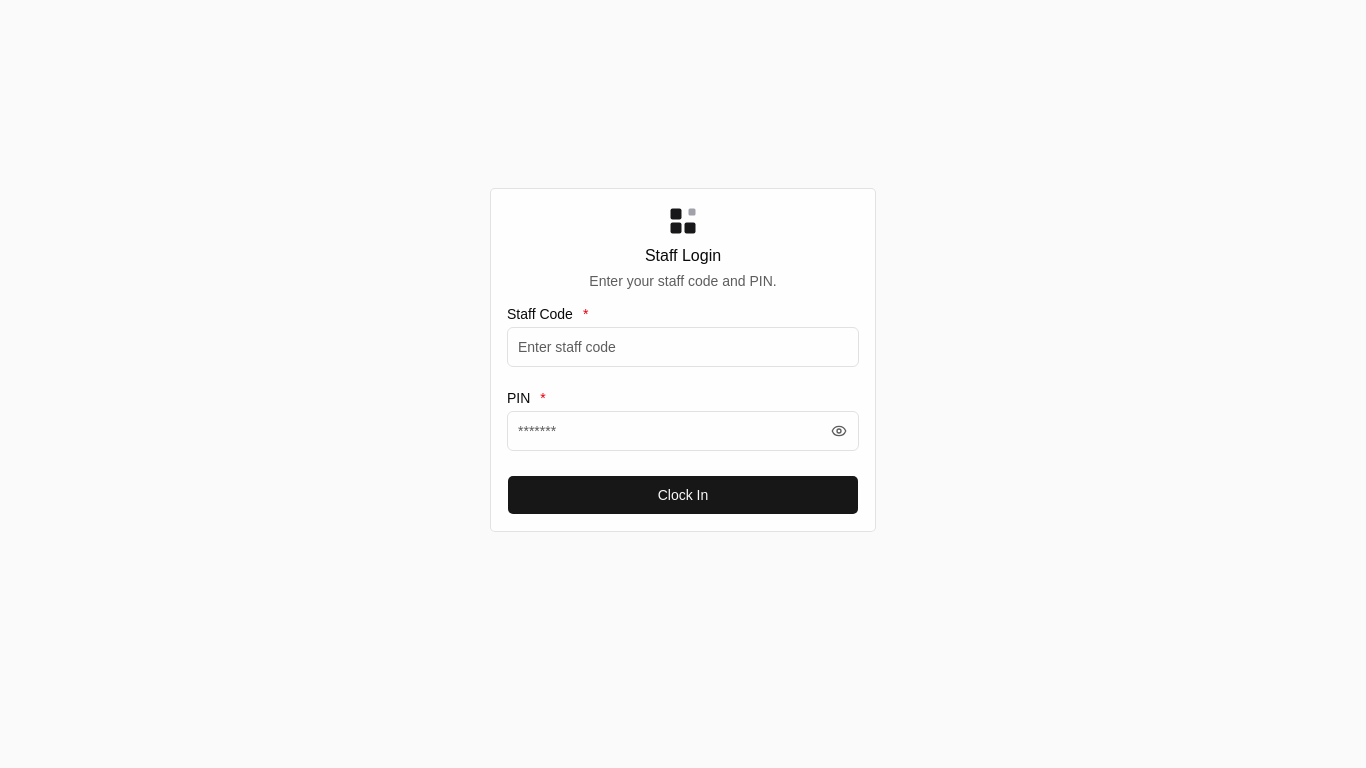
Test: Forced PIN change on login › validates change PIN form rules (different pins, matching confirm)
Type "STAFF02" into the field with placeholder "Enter staff code" at (683, 347), box [508,327,858,367]
Type "123456" into the password field labelled "PIN" at (665, 431), box [508,411,823,451]
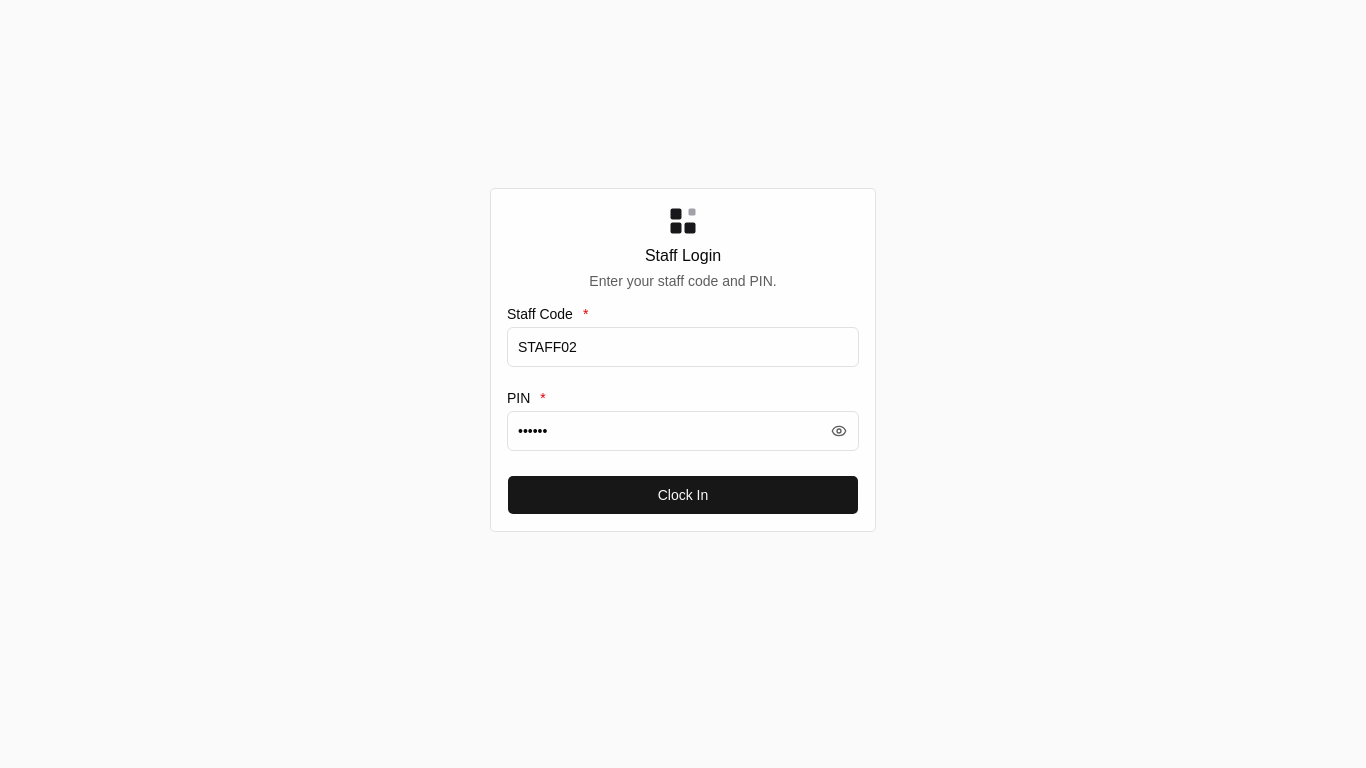
Click the button "Clock In" at (683, 495), box [507,475,859,515]
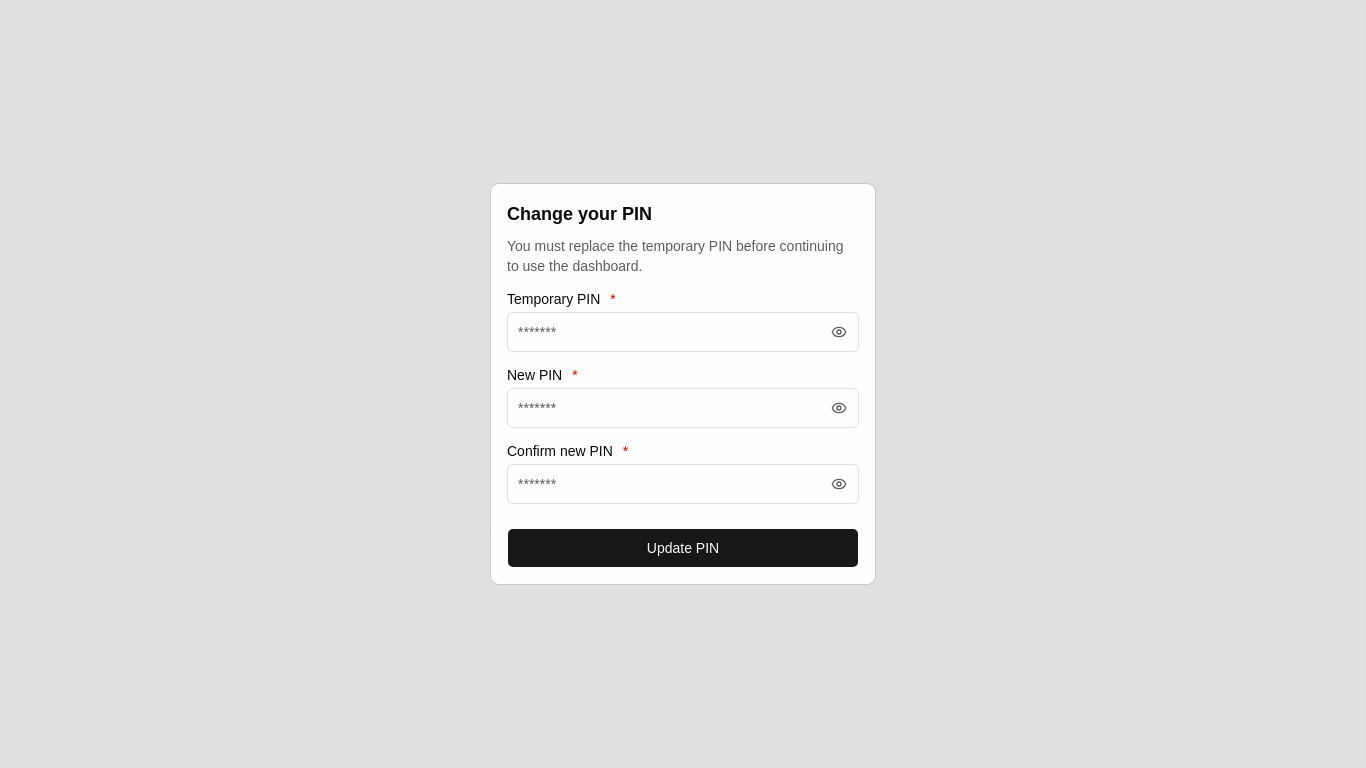
Now the dialog is shown, box [491,184,875,584]
Type "123456" into the password field labelled "Temporary PIN" at (665, 332), box [508,312,823,352]
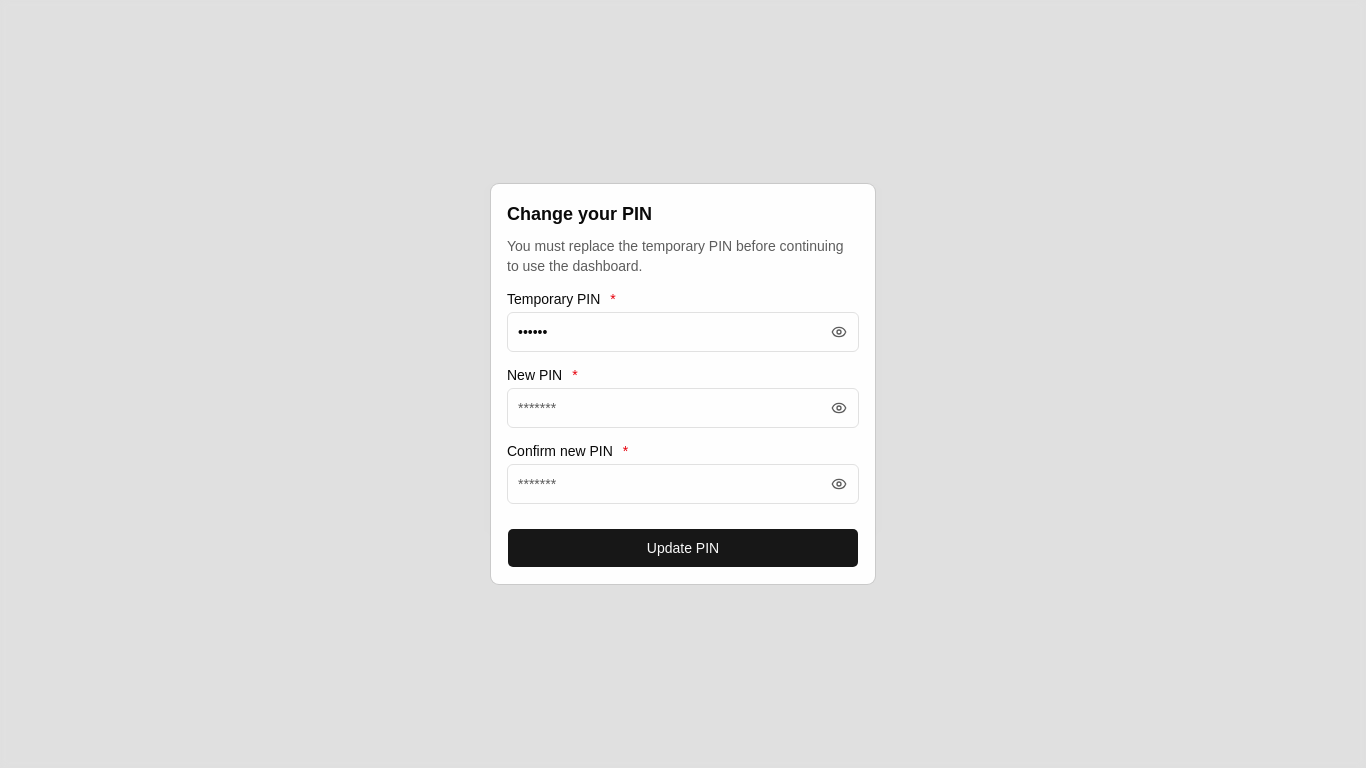
Type "123456" into the password field labelled "New PIN" at (665, 408), box [508,388,823,428]
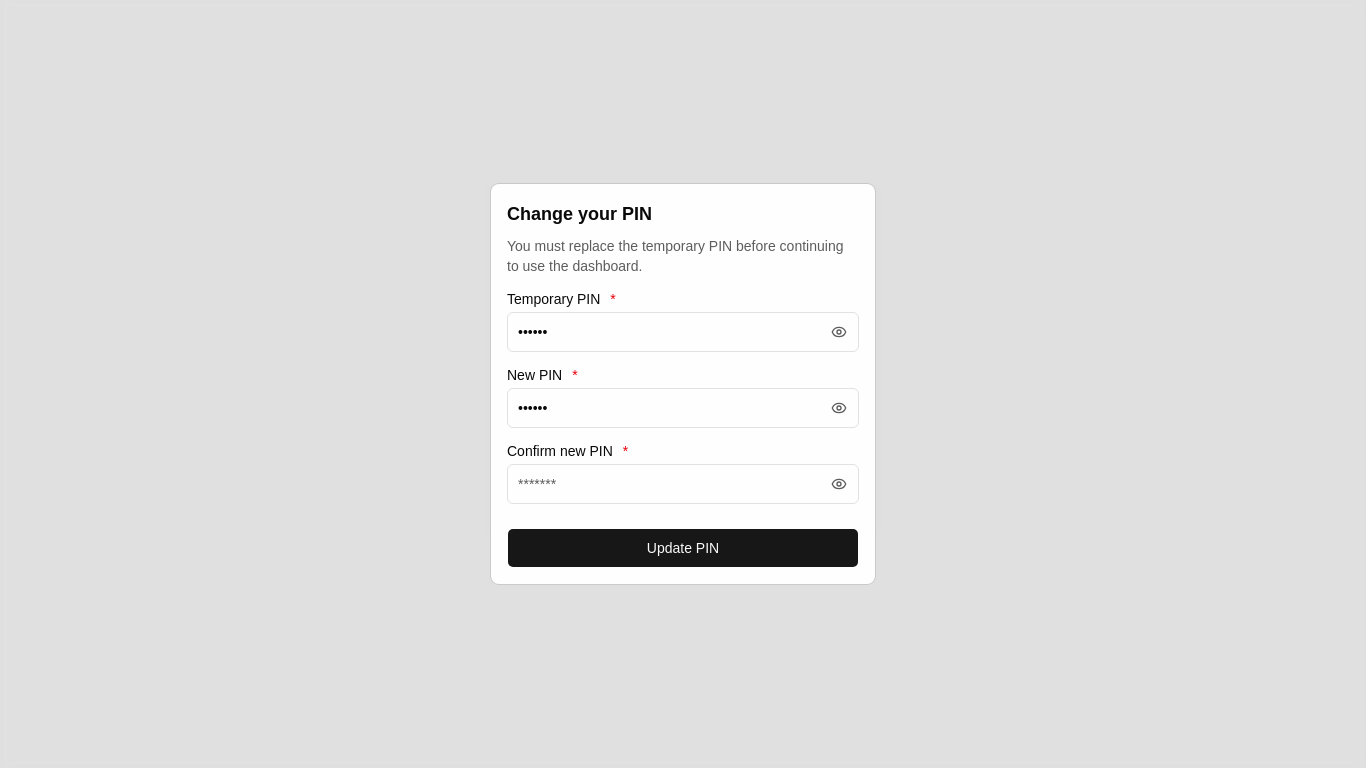
Type "123456" into the password field labelled "Confirm new PIN" at (665, 484), box [508,464,823,504]
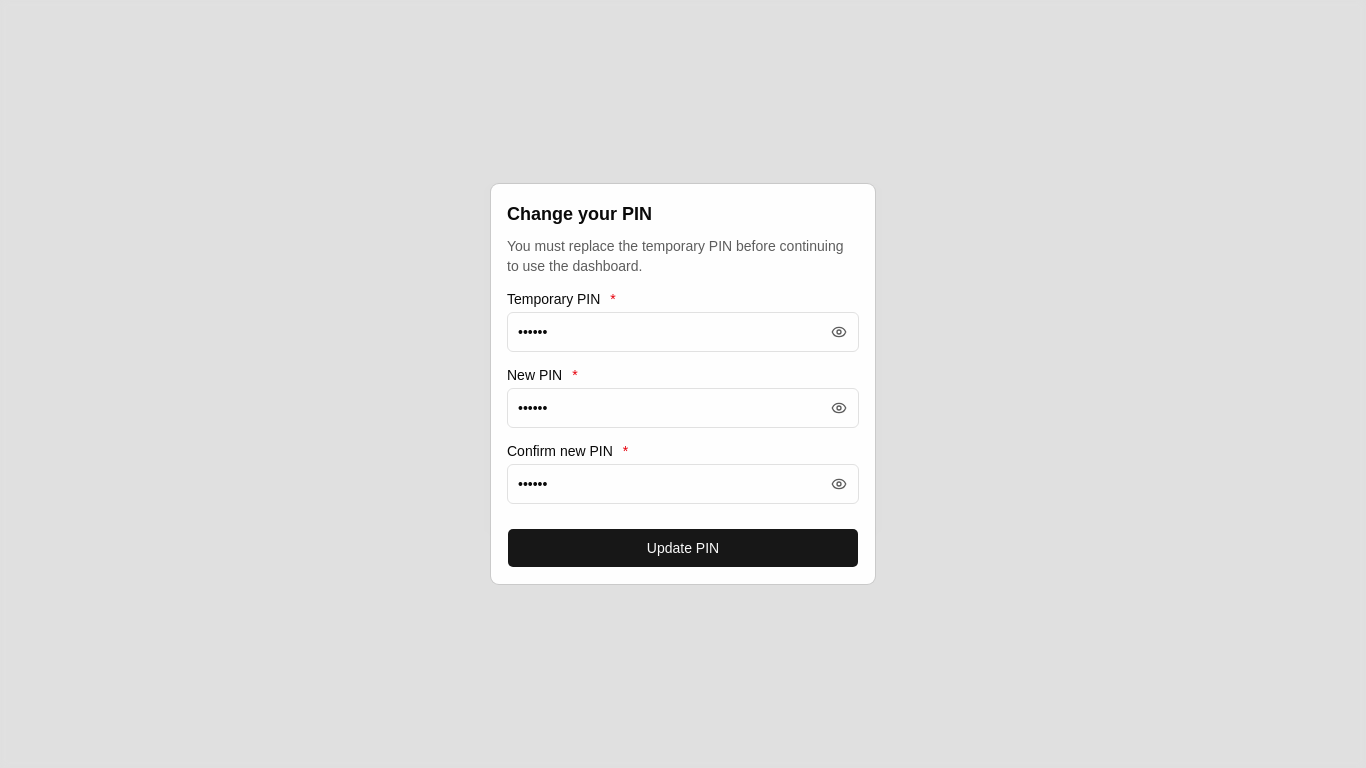
Click the button "Update PIN" at (683, 548), box [507,528,859,568]
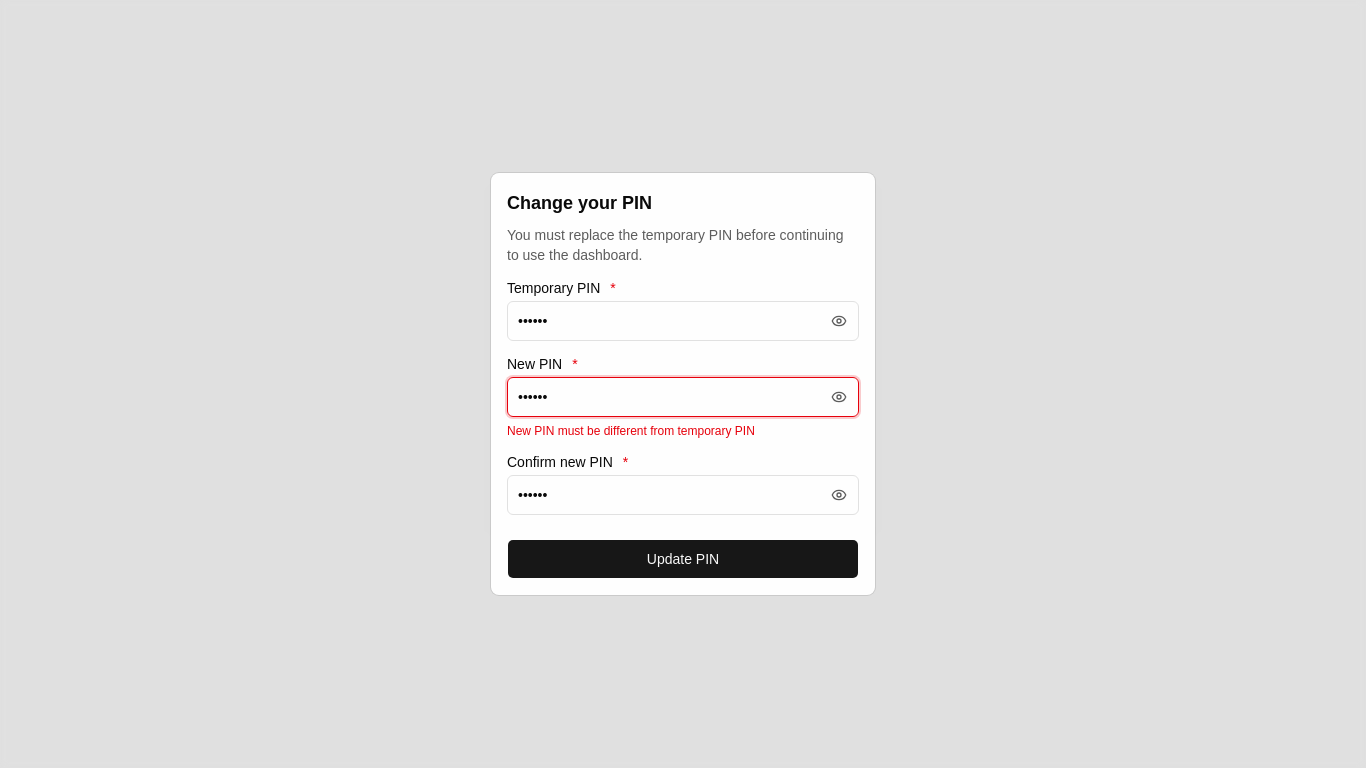
Now the text "New PIN must be different from temporary PIN" is shown, box [507,424,755,438]
